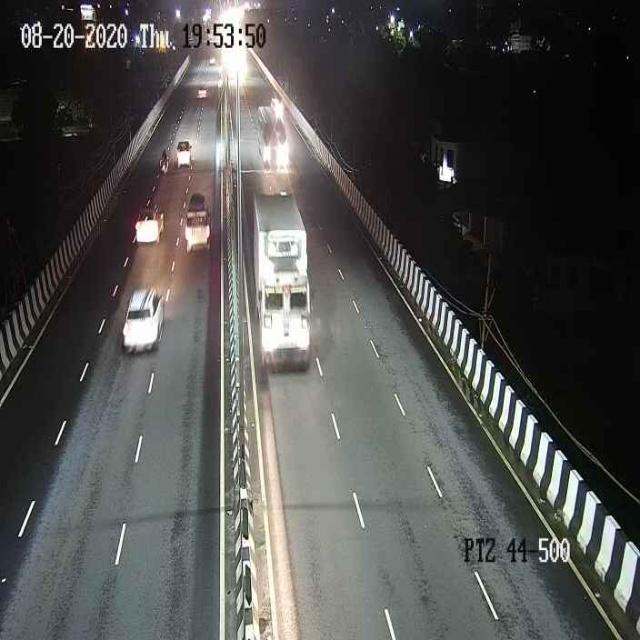car: (118, 282, 163, 356), (181, 189, 214, 251), (130, 207, 163, 246), (171, 135, 193, 169)
